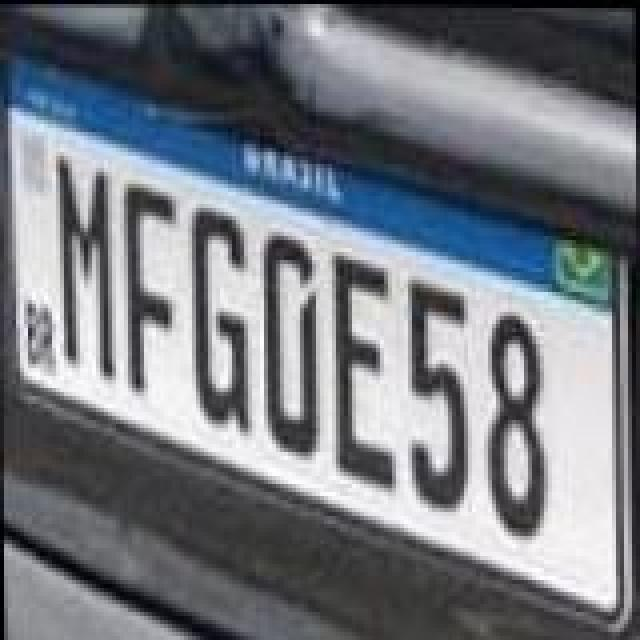5: (406, 274, 470, 510)
8: (480, 310, 548, 542)
D: (256, 234, 320, 462)
E: (326, 250, 394, 494)
F: (122, 174, 182, 394)
G: (188, 204, 252, 436)
M: (56, 150, 116, 382)
